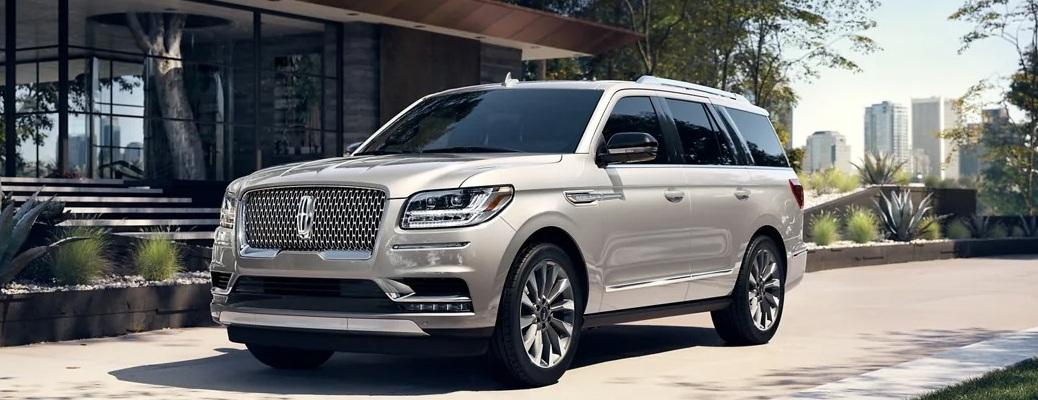lincoln: (293, 191, 316, 242)
